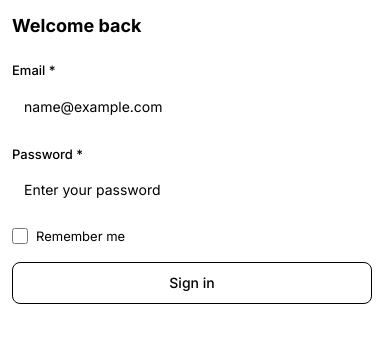
LoginForm › rejects an invalid email format
In the field labelled "Email *": (192, 106) [12,86,372,126], type "not-an-email"
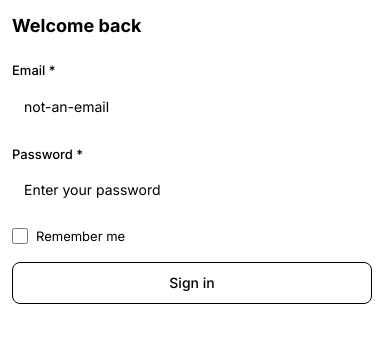
In the password field labelled "Password *": (192, 190) [12,170,372,210], type "password123"
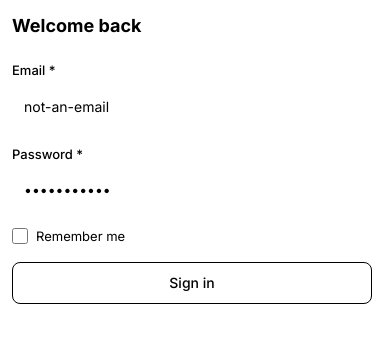
Click the button "Sign in": click(192, 283) [12,262,372,304]
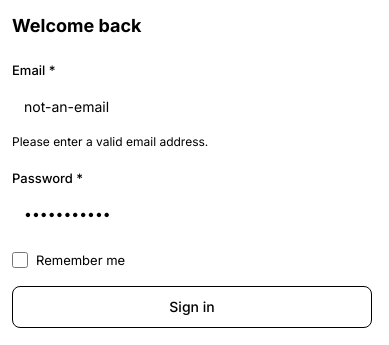
Expected: the text "Please enter a valid email address." is shown, [12,134,208,148]
